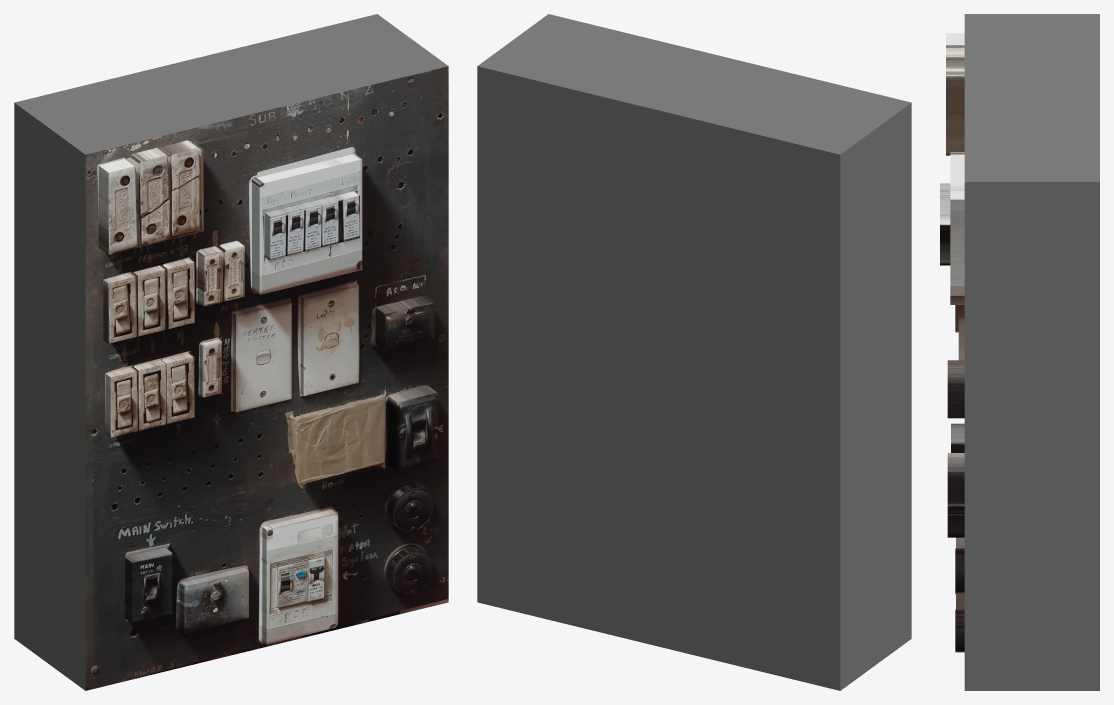
The model's file is switchboard.gltf.
3 renders of one model, left to right at view 1: azimuth 30°, elevation 25°; view 2: azimuth 150°, elevation 25°; view 3: azimuth 270°, elevation 25°, orthographic. The views are drawn at different scales.
Visible parts, largest first — view 1: SWITCHBOARD_OLD; view 2: SWITCHBOARD_OLD; view 3: SWITCHBOARD_OLD.
Part boxes in pixels (x1,y1,x2,y2): SWITCHBOARD_OLD: (14,14,448,690); SWITCHBOARD_OLD: (477,14,911,690); SWITCHBOARD_OLD: (940,14,1099,690).
Bounding box in the file's own units: 0.4704 × 0.6638 × 0.189.
Materials: 2 (1 with a texture image).
